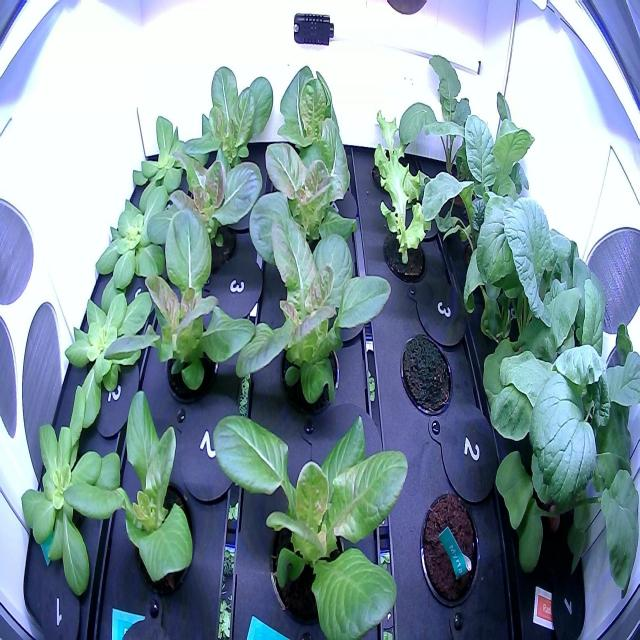pod: (410, 473, 484, 618), (392, 318, 460, 428)
young: (203, 387, 409, 636), (97, 190, 261, 429), (226, 206, 400, 415), (13, 378, 142, 610), (106, 376, 206, 608), (246, 109, 372, 282), (53, 264, 168, 444), (137, 131, 266, 291), (170, 55, 278, 204), (84, 167, 185, 320), (261, 46, 355, 204), (125, 90, 208, 212)
